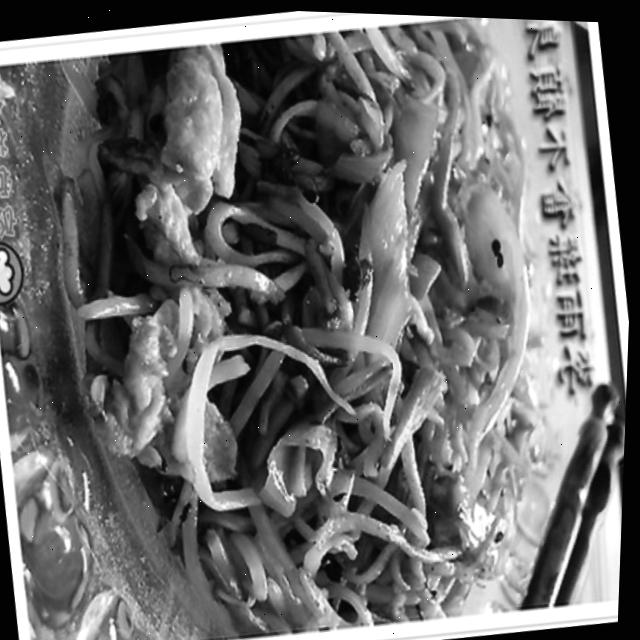面条主食: (0, 34, 622, 640)
